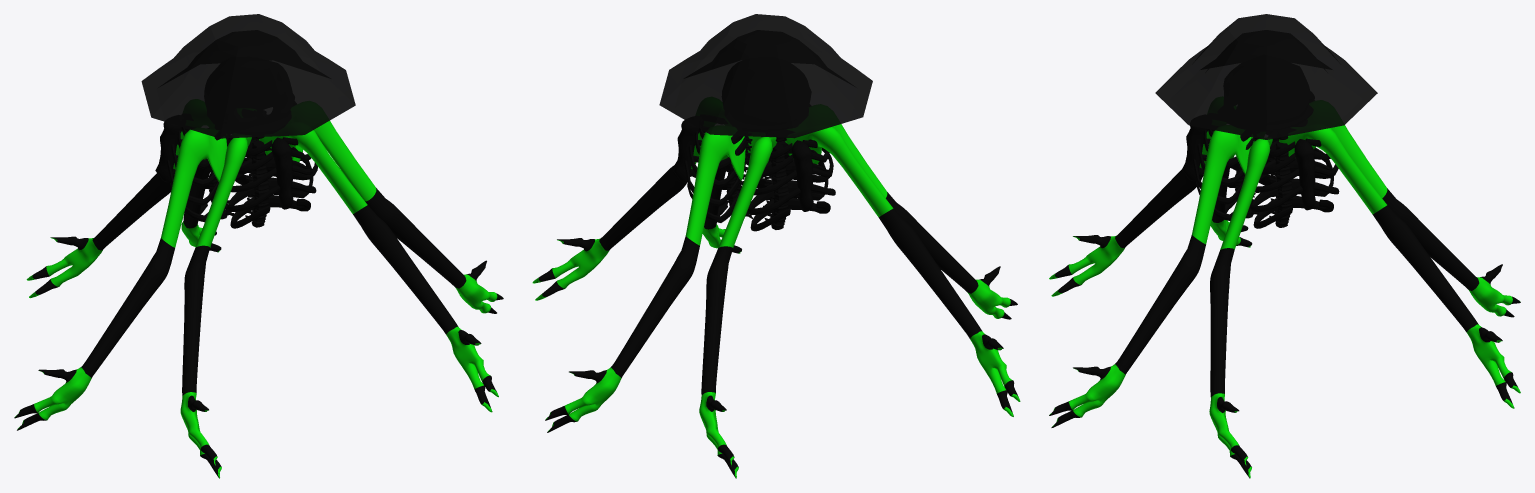
File: JellyV4.fbx
3 renders of one model, left to right at view 1: azimuth 30°, elevation 25°; view 2: azimuth 150°, elevation 25°; view 3: azimuth 270°, elevation 25°, orthographic.
Visible parts, largest first — view 1: group7_pCube2; view 2: group7_pCube2; view 3: group7_pCube2.
Boxes of the visible parts, x1,y1,x2,y2 form: group7_pCube2: [14, 14, 503, 478]; group7_pCube2: [532, 14, 1020, 478]; group7_pCube2: [1049, 14, 1520, 478].
Size of the model in its own units: 3.17 by 2.14 by 2.67.
